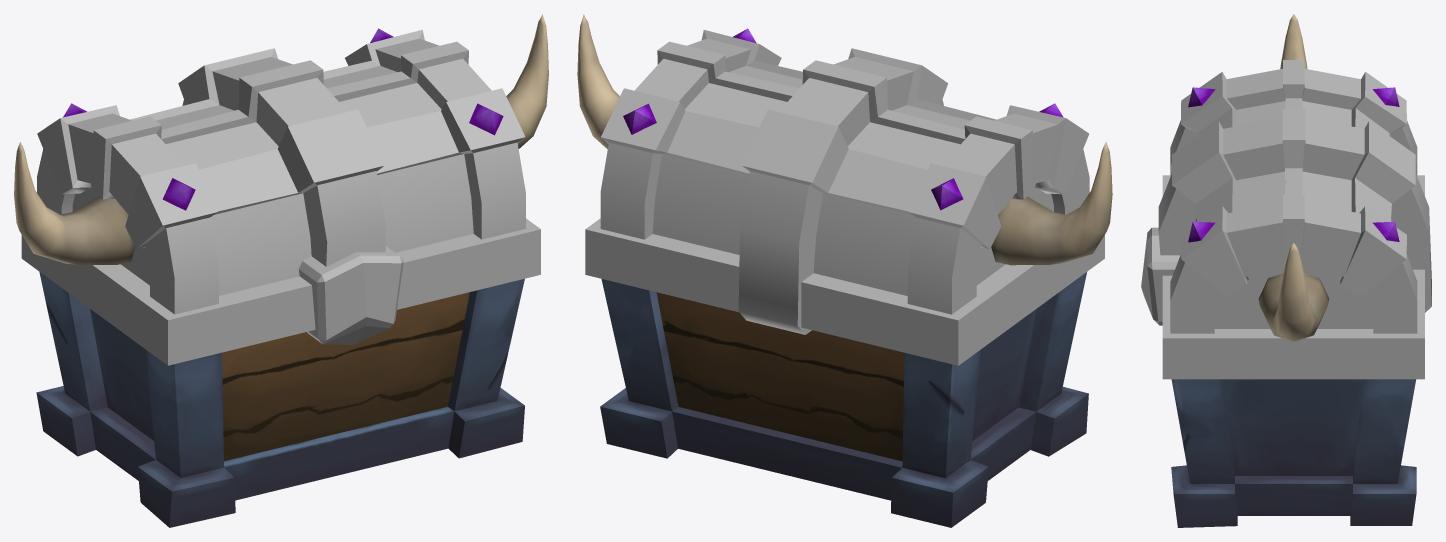
File: Cofre Prueba Unity.fbx
The picture shows the model from 3 angles, left to right: view 1: azimuth 30°, elevation 25°; view 2: azimuth 150°, elevation 25°; view 3: azimuth 270°, elevation 25°; orthographic projection. The views are drawn at different scales.
Parts seen in each view (by area): view 1: ParteAlta, ParteBaja_Metalica; view 2: ParteAlta, ParteBaja_Metalica; view 3: ParteAlta, ParteBaja_Metalica.
Boxes of the visible parts, x1,y1,x2,y2 form: ParteAlta: (14, 14, 548, 365); ParteBaja_Metalica: (36, 272, 524, 527); ParteAlta: (577, 14, 1112, 365); ParteBaja_Metalica: (600, 272, 1088, 527); ParteAlta: (1141, 14, 1431, 379); ParteBaja_Metalica: (1171, 379, 1416, 527).
Size of the model in its own units: 575 by 378 by 305.
1 material, 1 textured.
